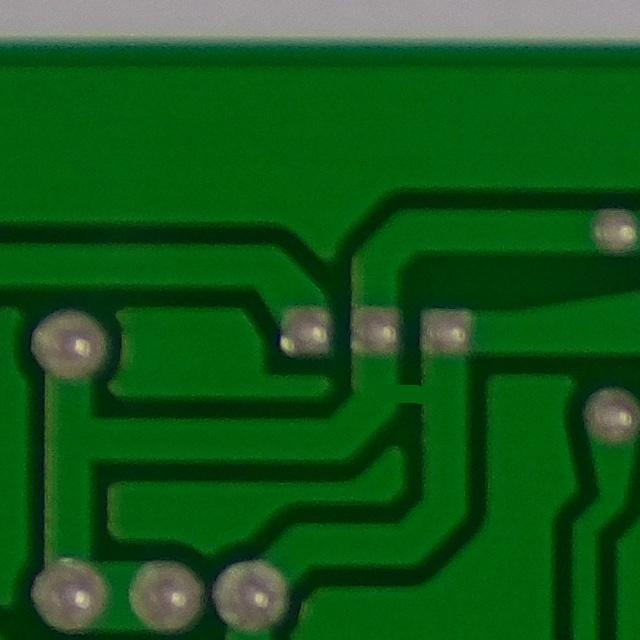short: (349, 355, 465, 438)
